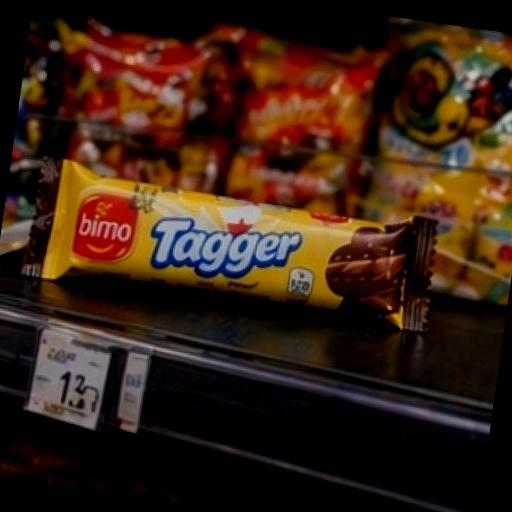tagger: (0, 82, 505, 458)
